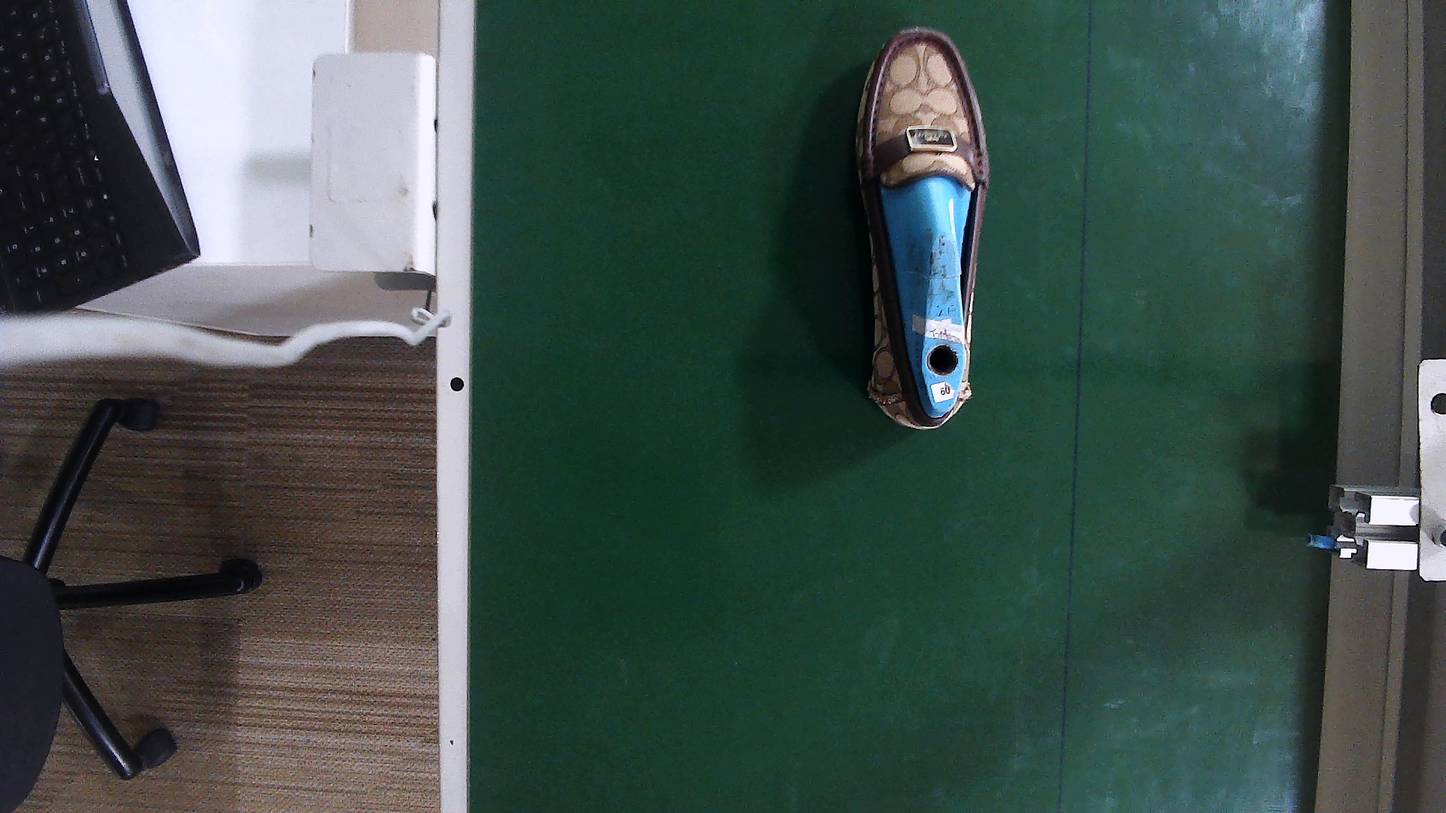shoe: (862, 30, 988, 430)
